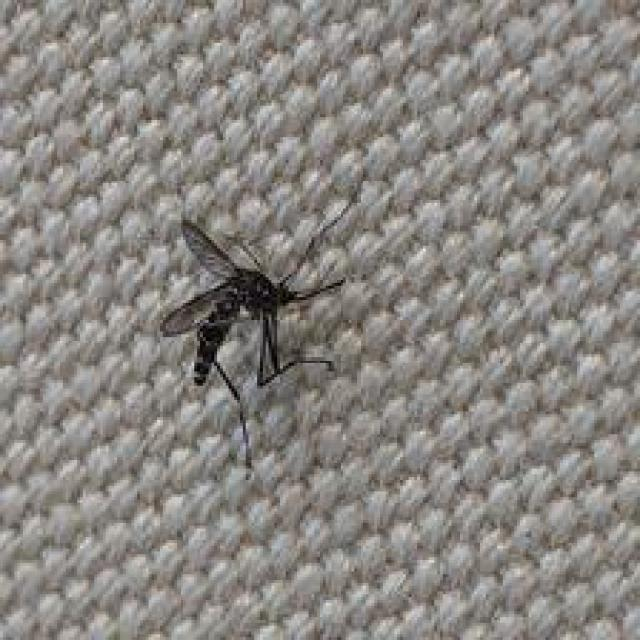Aedes albopictus: (158, 201, 353, 473)
